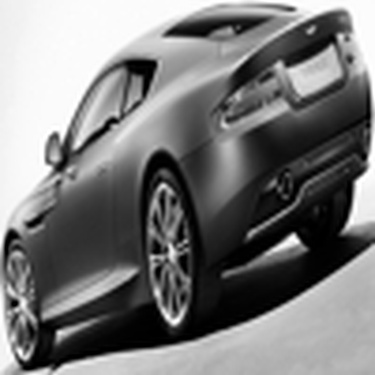car: (3, 4, 365, 358)
